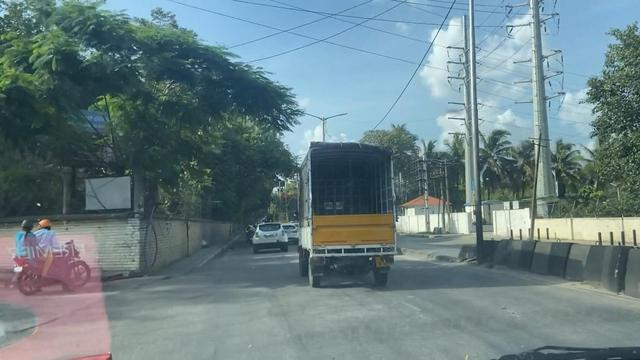HMV: (299, 139, 396, 292)
LMV: (253, 223, 288, 251)
RoadDamages: (0, 282, 122, 345)
UnsurfacedRoad: (391, 290, 430, 320)
